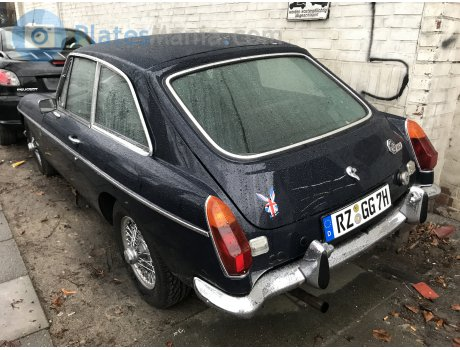License Plates: (334, 189, 393, 228)
